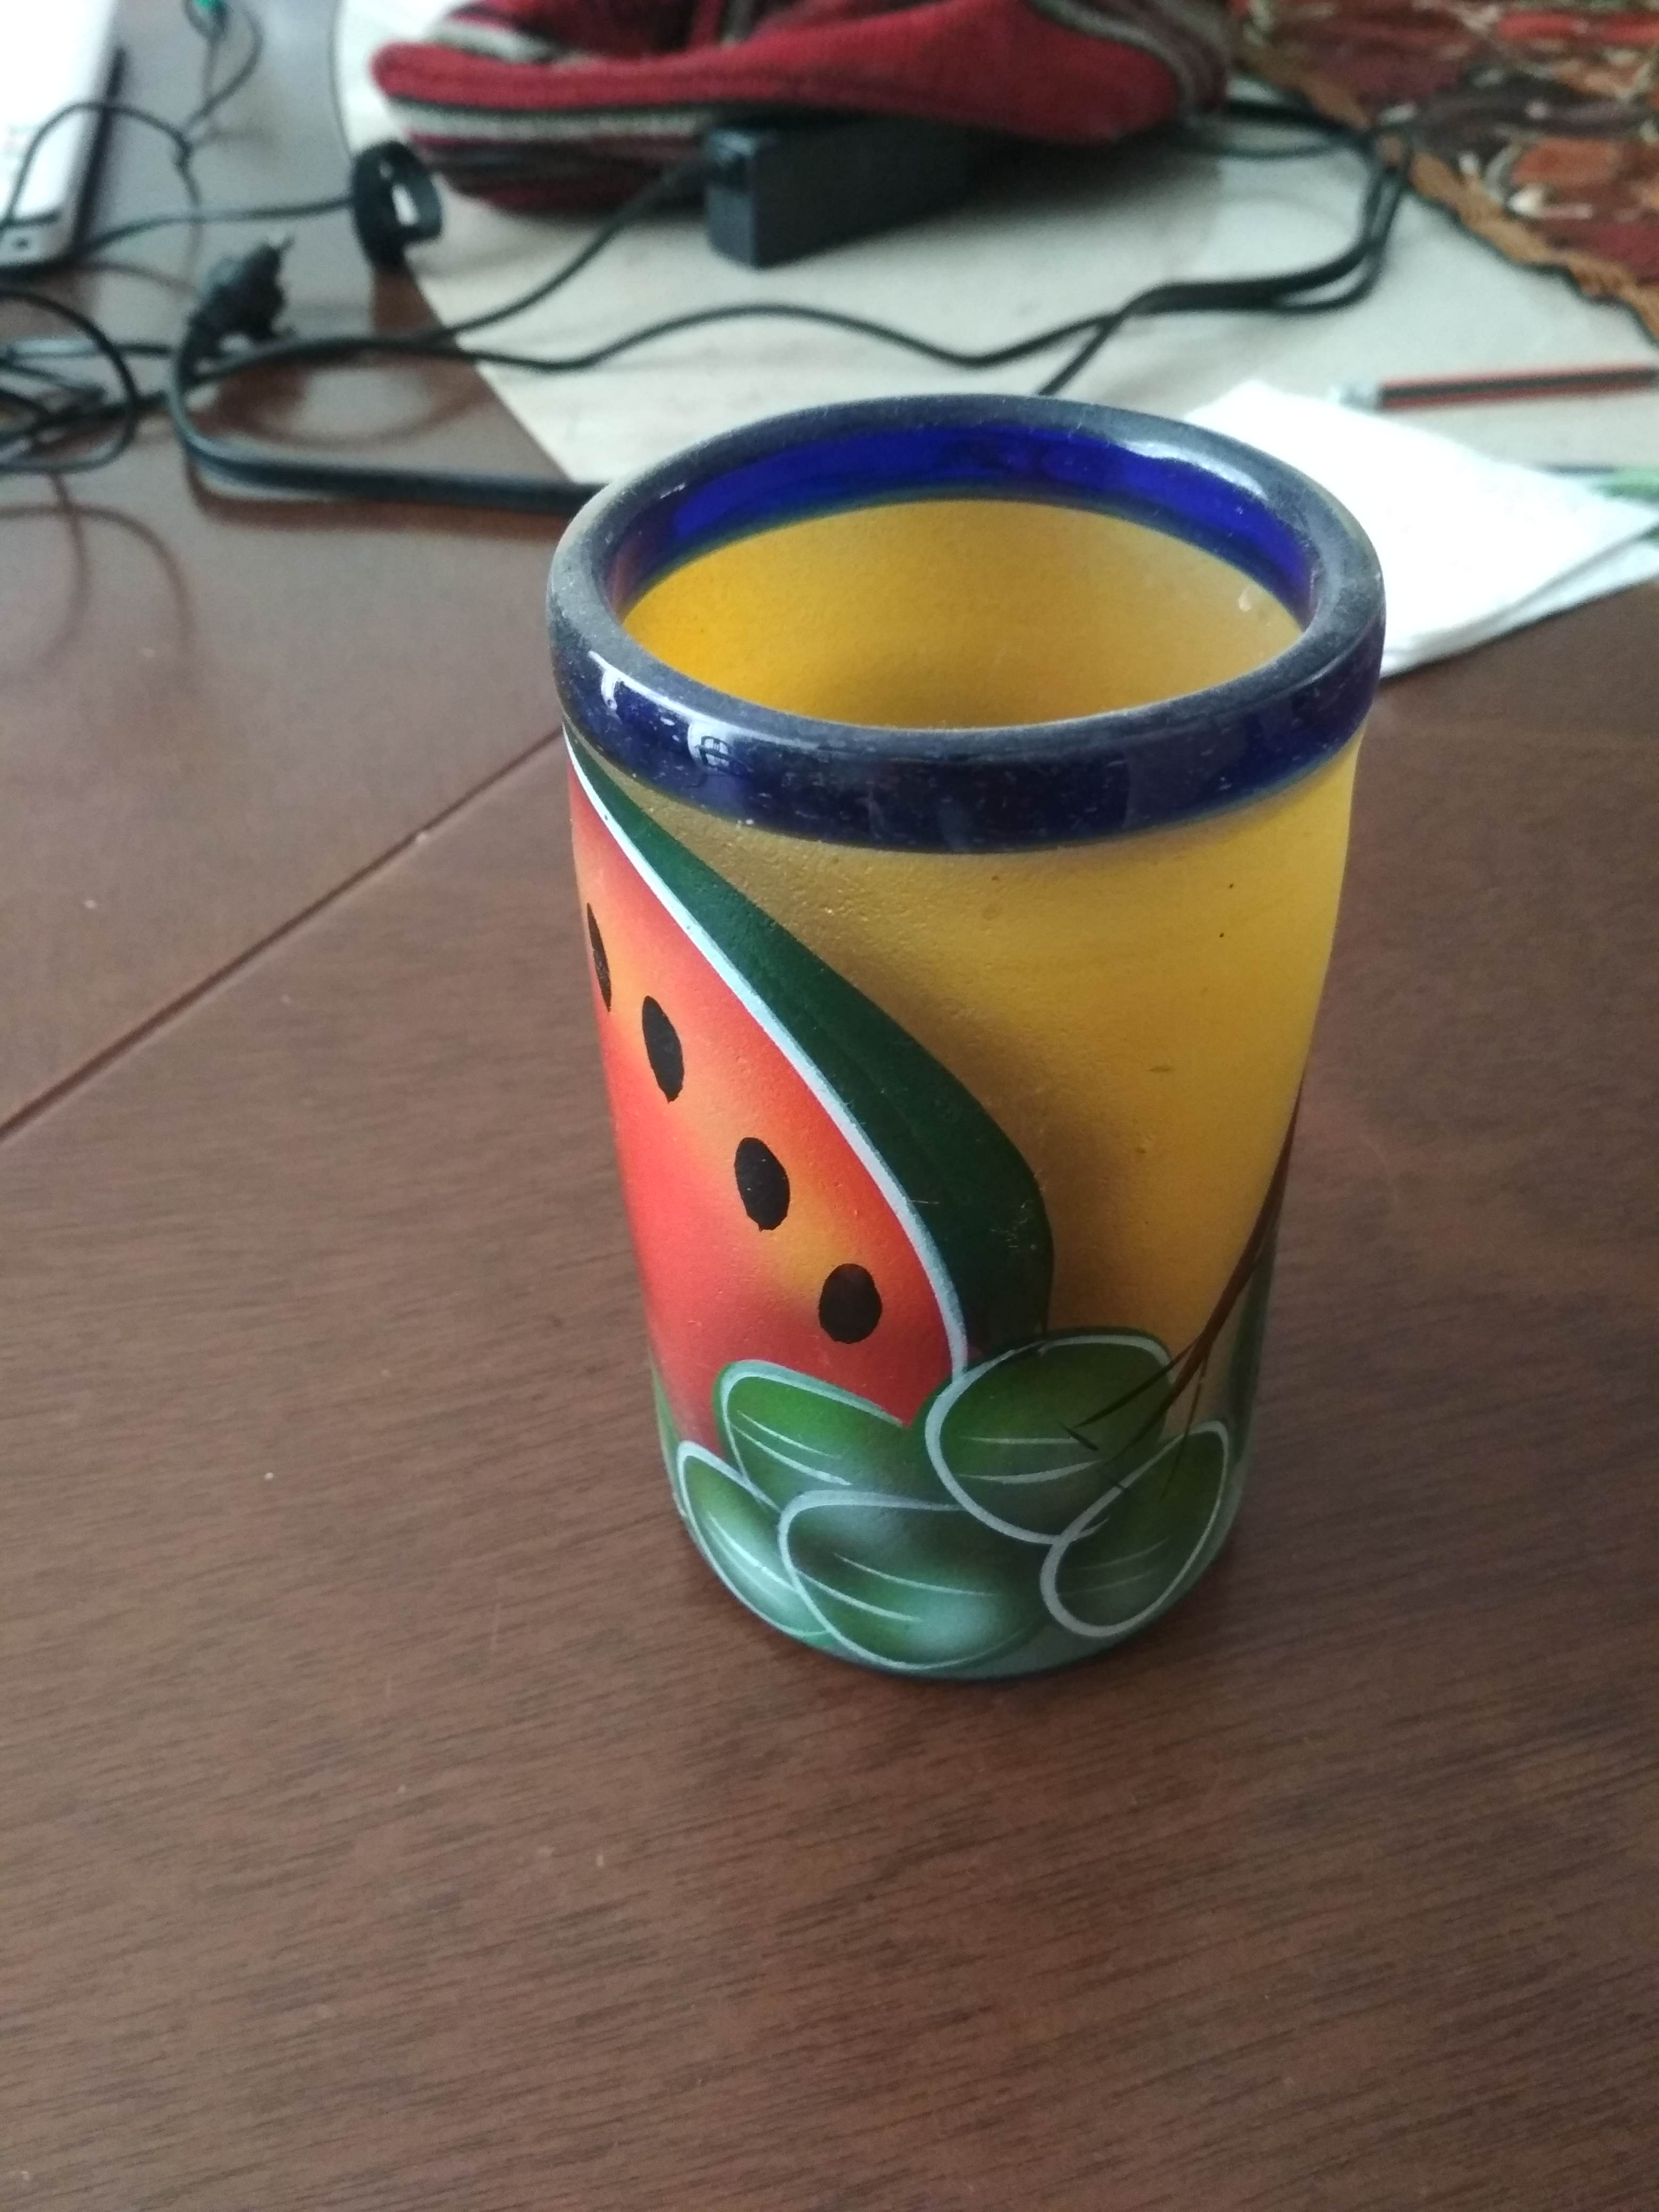glass: (519, 364, 1422, 1724)
